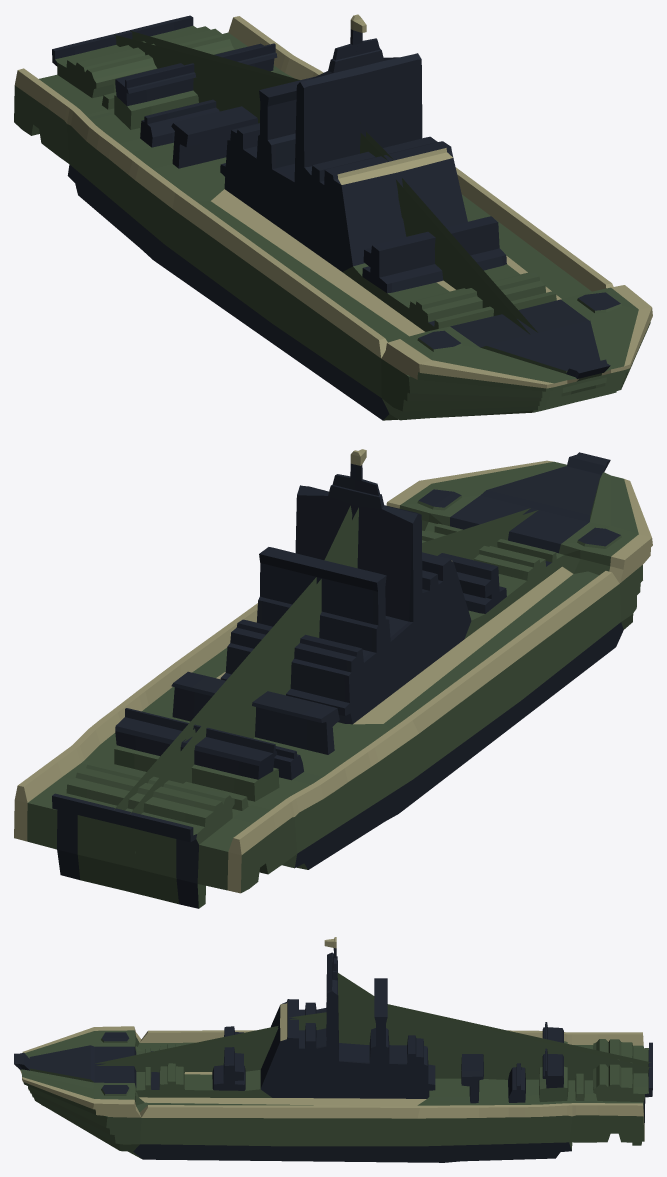
File: Destroyer v3.fbx
3 views of the same model, one above another, from view 1: azimuth 30°, elevation 25°; view 2: azimuth 150°, elevation 25°; view 3: azimuth 270°, elevation 25° (orthographic). The views are drawn at different scales.
Parts seen in each view (by area): view 1: Destroyer2; view 2: Destroyer2; view 3: Destroyer2.
Part boxes in pixels (x1=…): Destroyer2: x1=14, y1=14, x2=652, y2=420; Destroyer2: x1=14, y1=449, x2=652, y2=908; Destroyer2: x1=14, y1=937, x2=652, y2=1162.
Bounding box in the file's own units: 300 × 90.81 × 95.9.
